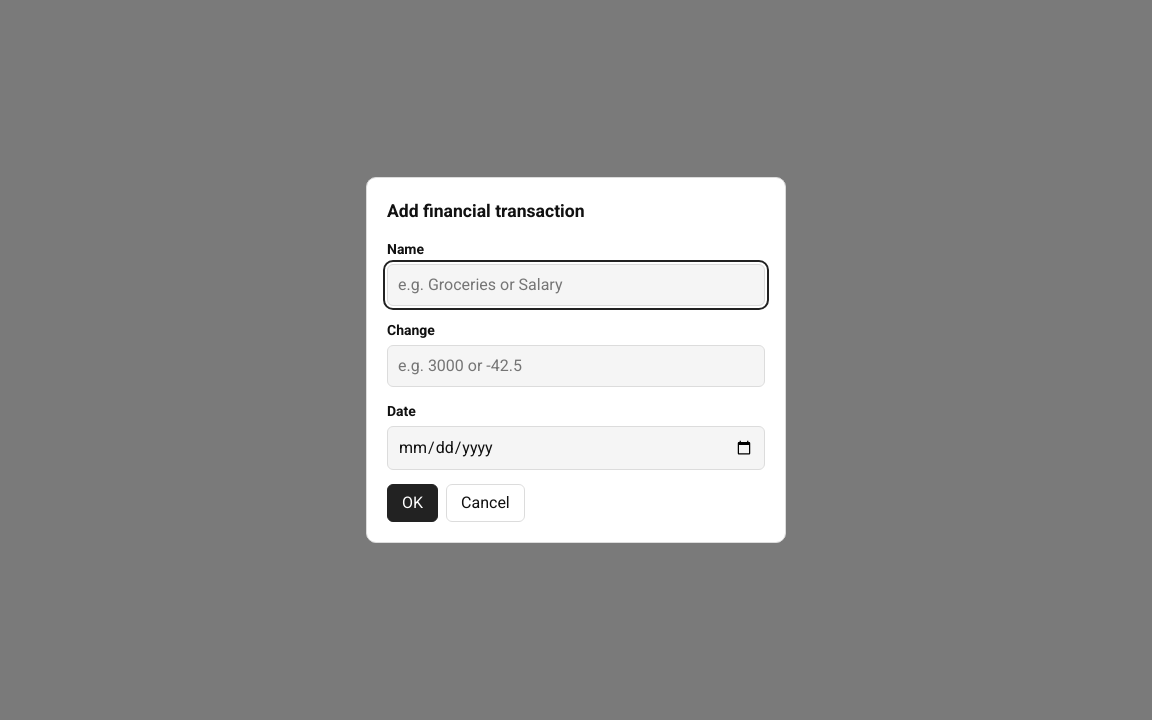
Test: adding › shows field errors from a rejected submit and keeps the dialog open
The width and height of the screenshot is (1152, 720).
Type "Groceries" into the field labelled "Name" at (576, 285), box x1=387 y1=264 x2=765 y2=306
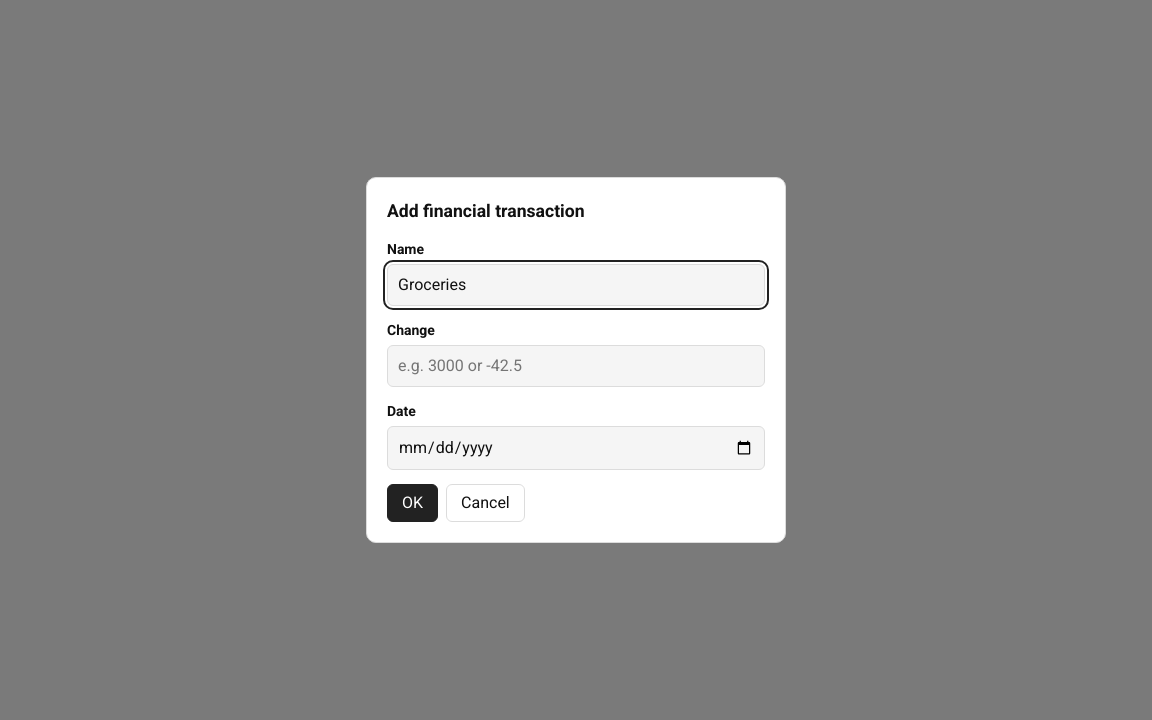
Type "1" into the field labelled "Change" at (576, 366), box x1=387 y1=345 x2=765 y2=387
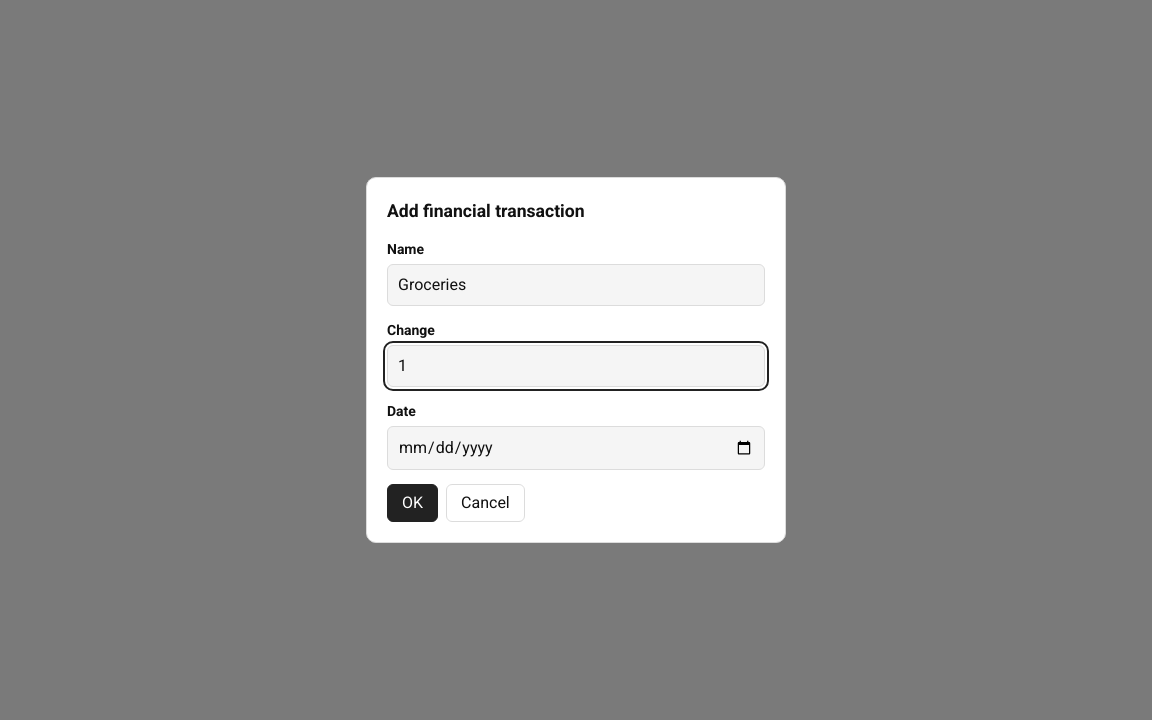
Type "2026-01-15" into the date field labelled "Date" at (576, 448), box x1=387 y1=426 x2=765 y2=470
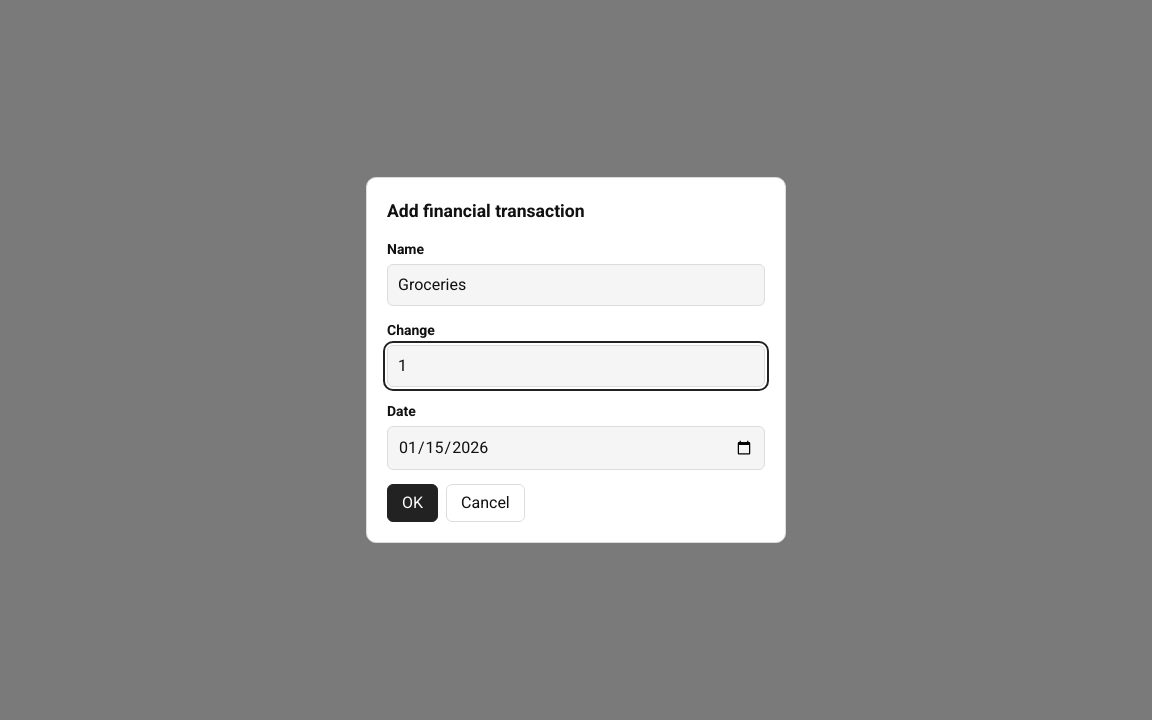
Click the button "OK" at (412, 503), box x1=387 y1=484 x2=438 y2=522
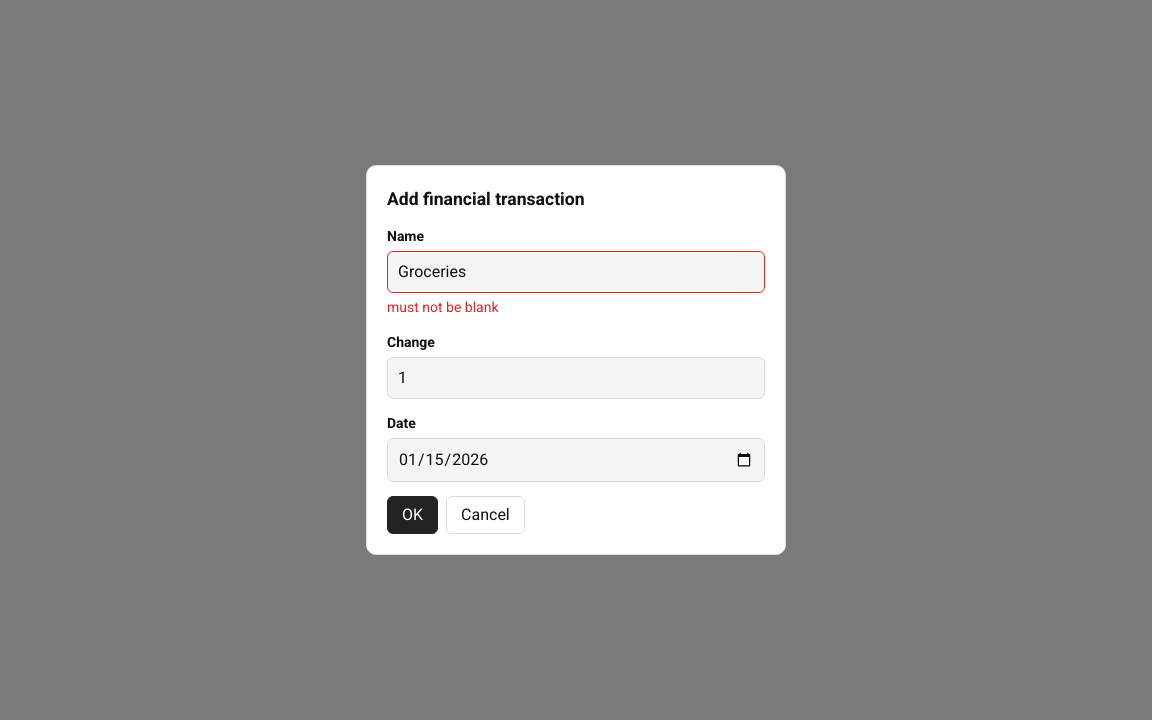
Check: the text "must not be blank" is shown, box x1=387 y1=299 x2=498 y2=315
